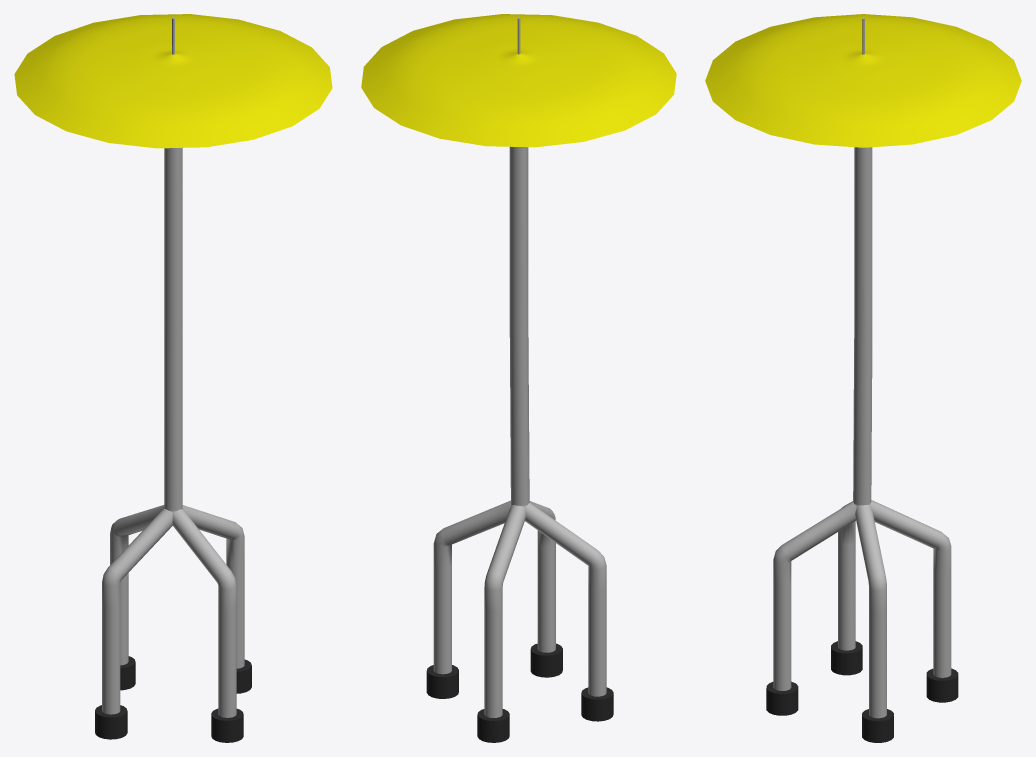
Rendered from Platillo.fbx.
The picture shows the model from 3 angles, left to right: view 1: azimuth 30°, elevation 25°; view 2: azimuth 150°, elevation 25°; view 3: azimuth 270°, elevation 25°; orthographic projection.
Visible parts, largest first — view 1: Platilloss; view 2: Platilloss; view 3: Platilloss.
Boxes of the visible parts, bbox=[...] form: Platilloss: bbox=[14, 14, 332, 742]; Platilloss: bbox=[361, 14, 676, 742]; Platilloss: bbox=[705, 14, 1021, 742].
Bounding box in the file's own units: 104 × 247 × 104.
